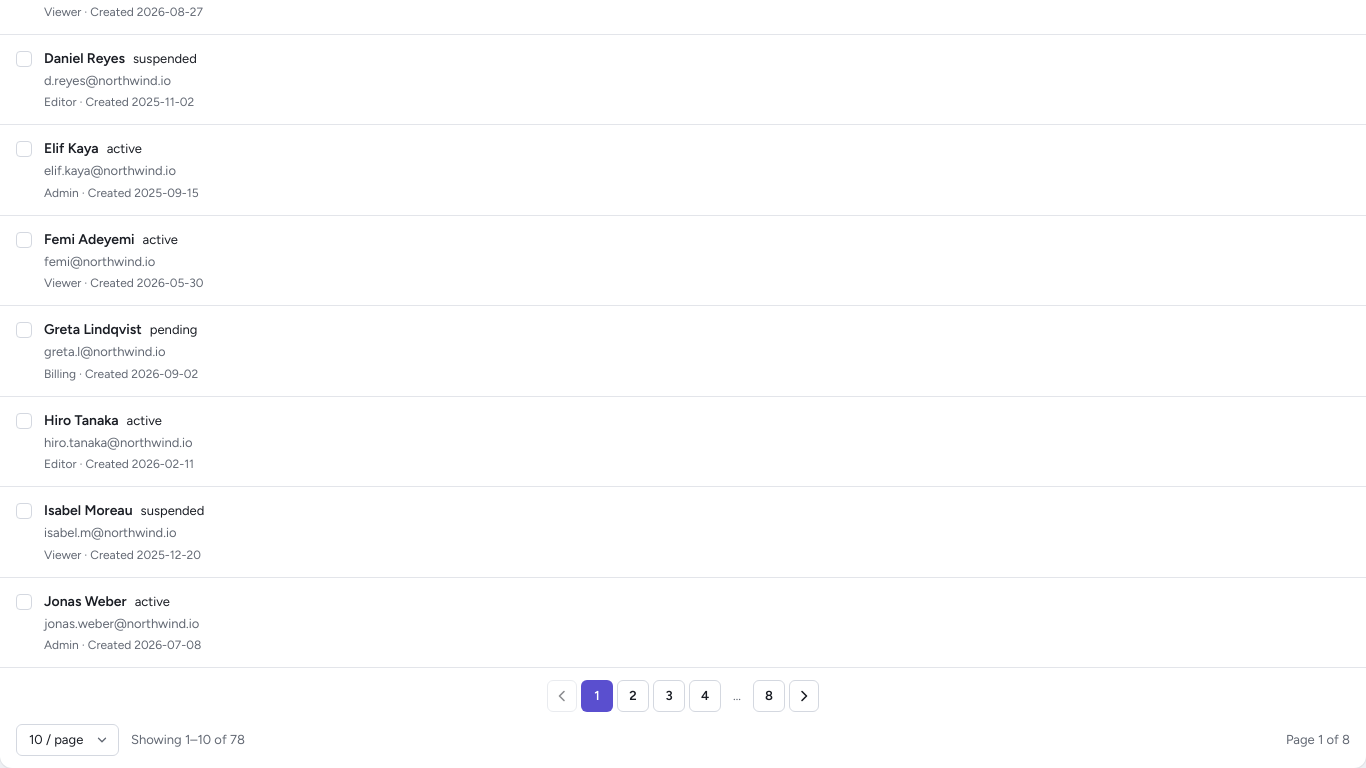
Test: DataTable · follow-ups › shows numbered pages on mobile
(page scrolled)
Expected: the button named "Page 8" is shown, [753, 680, 785, 712]
Expected: the button named "Previous page" is disabled, [547, 680, 577, 712]
Click the button named "Page 4" at [705, 696], box [689, 680, 721, 712]
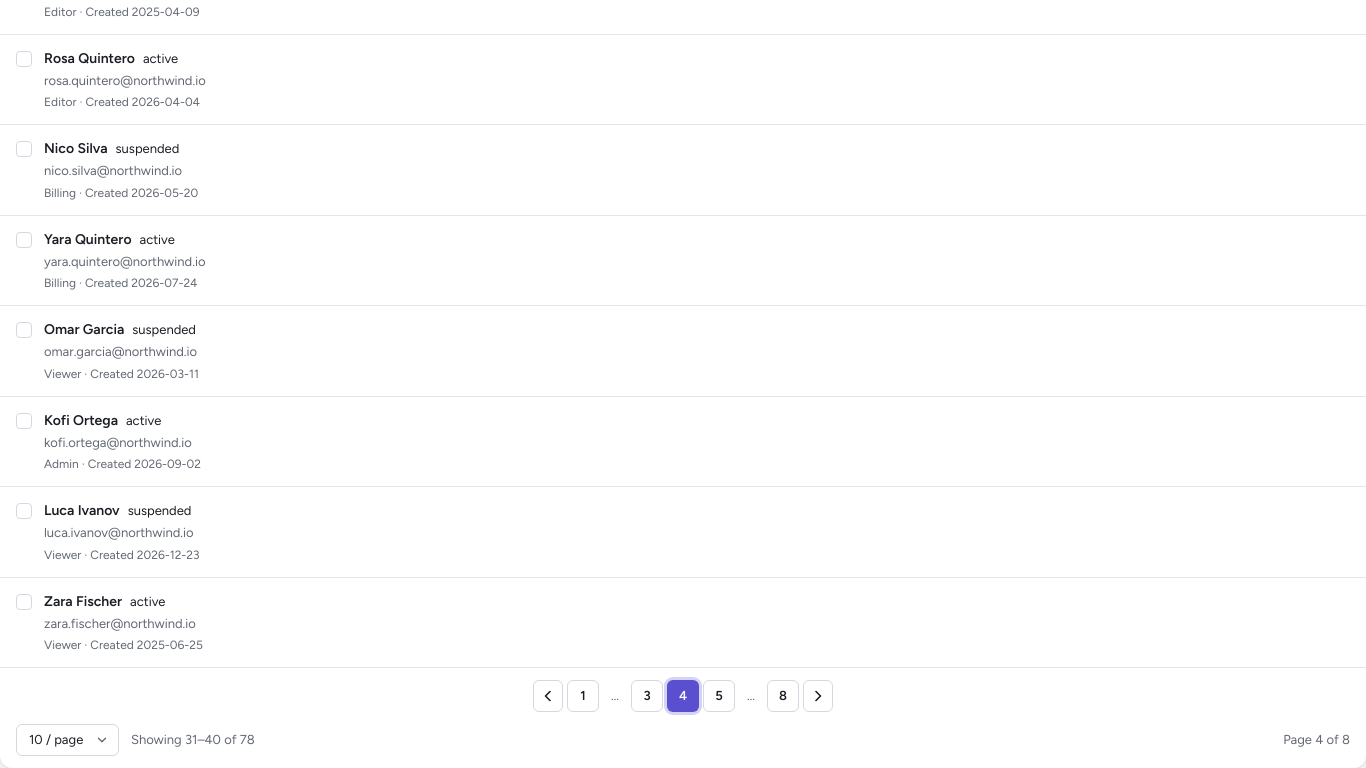
Expected: the button named "Page 3" is shown, [631, 680, 663, 712]
Expected: the text "Page 4 of 8" is shown, [1283, 730, 1350, 750]
